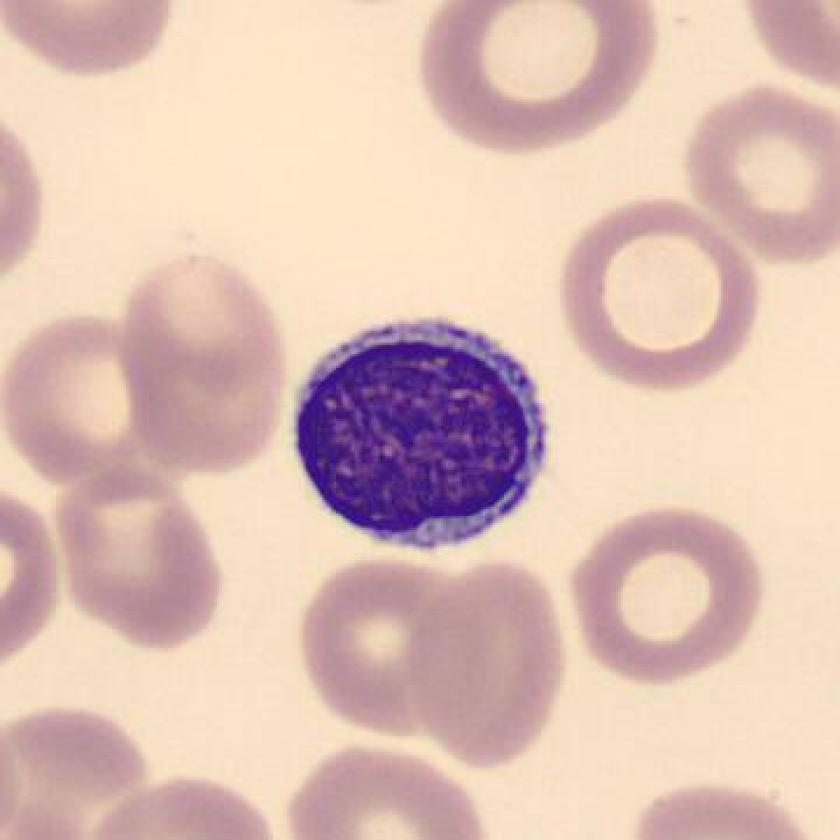lymphocyte: (274, 302, 568, 570)
